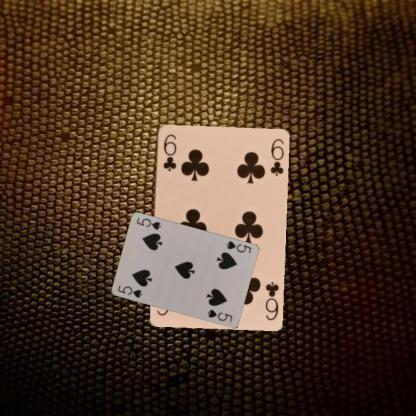5s: (115, 282, 144, 300), (223, 238, 252, 254)
6c: (262, 278, 280, 322), (160, 131, 178, 172)
